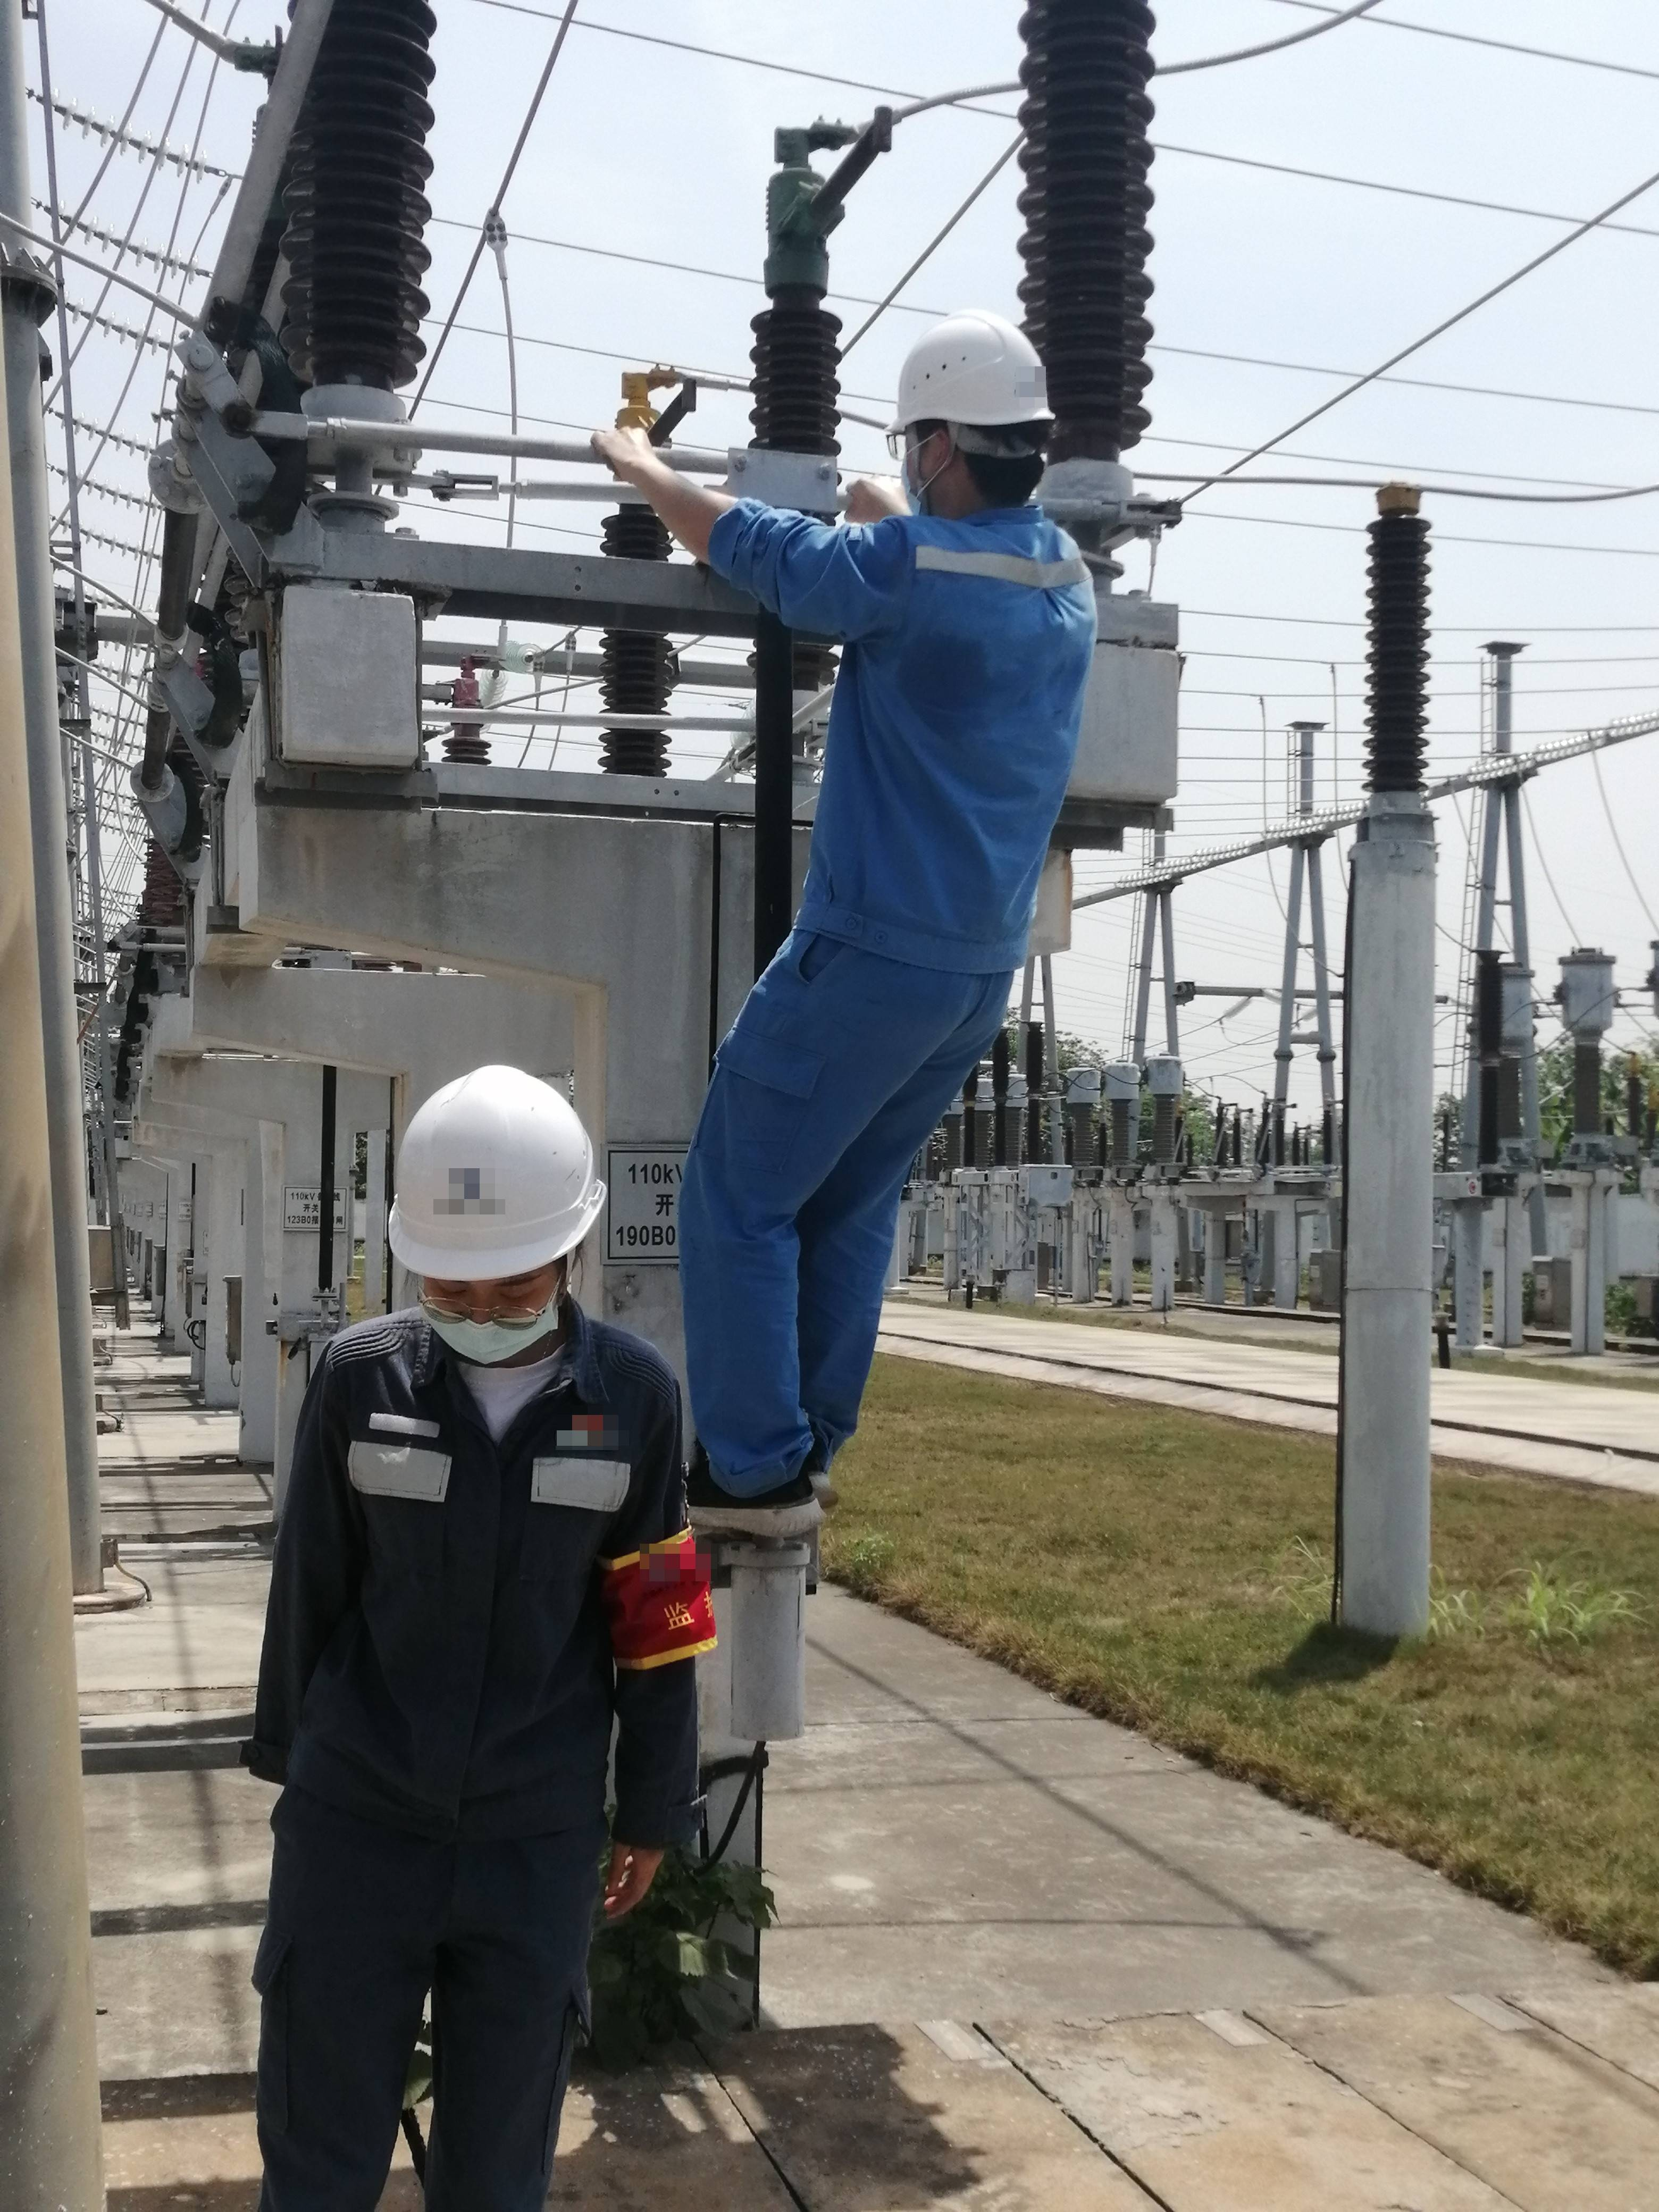downsuit: (706, 993, 1009, 1484), (235, 1860, 606, 2212)
upsuit: (240, 1308, 725, 1834), (730, 498, 1103, 958)
wrongtop: (605, 427, 781, 596)
